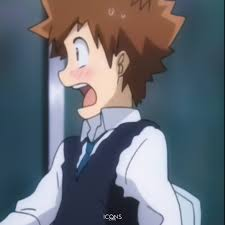Tsuna: (58, 5, 157, 119)
